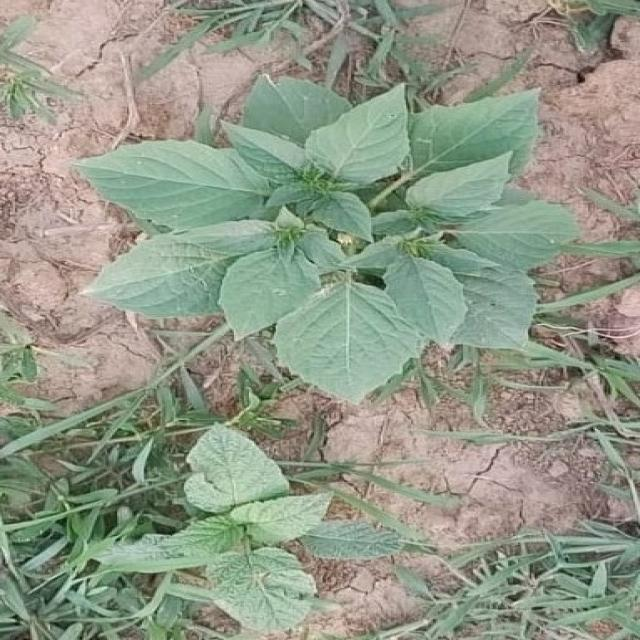weed: (79, 77, 578, 403), (99, 427, 399, 632)
